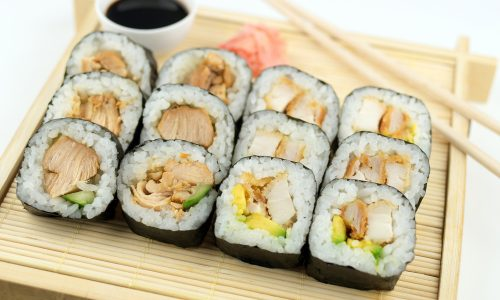sushi: (17, 30, 442, 286)
